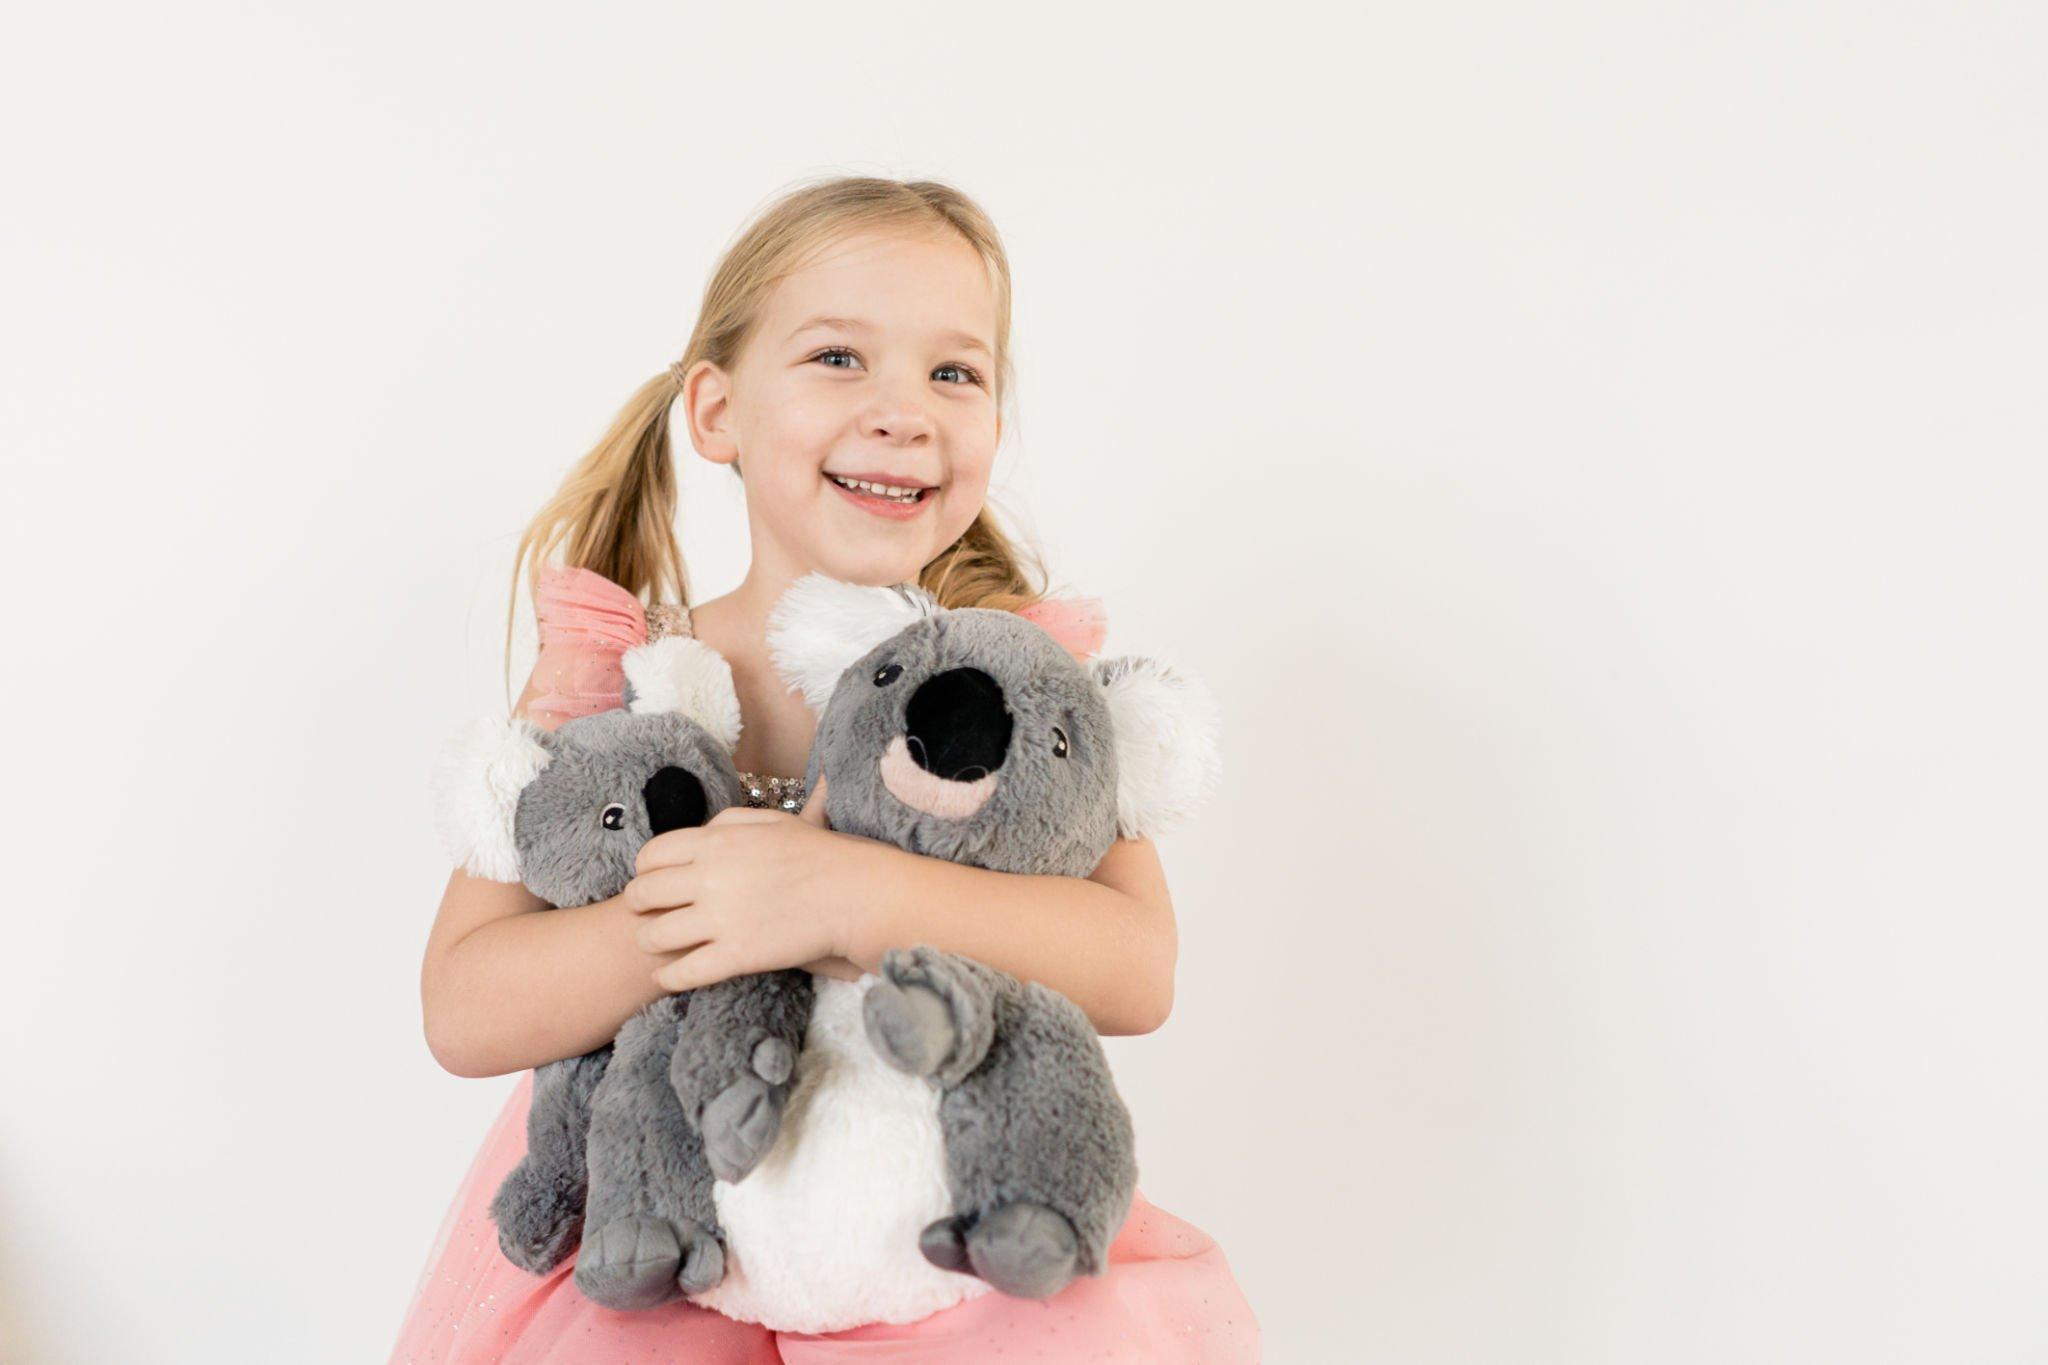Healthy: (717, 227, 1060, 587)
